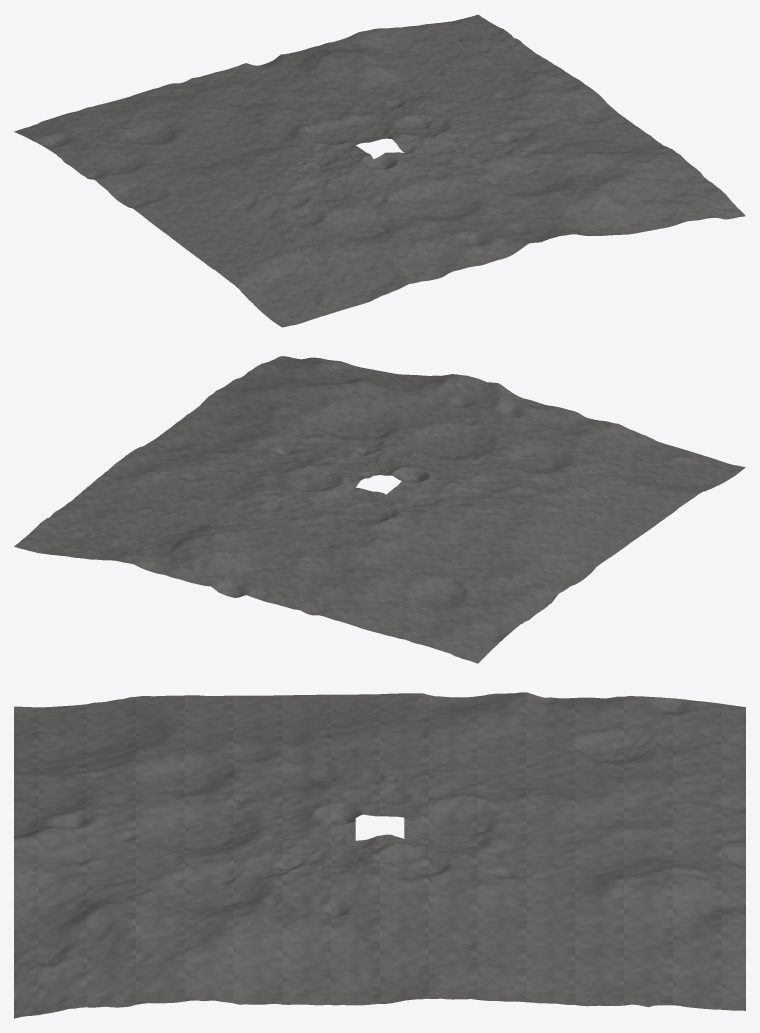
Rendered from connecting-ridge_far.glb.
3 views of the same model, one above another, from view 1: azimuth 30°, elevation 25°; view 2: azimuth 150°, elevation 25°; view 3: azimuth 270°, elevation 25° (orthographic). The views are drawn at different scales.
Parts seen in each view (by area): view 1: FarTerrain; view 2: FarTerrain; view 3: FarTerrain.
Boxes of the visible parts, <box> form: FarTerrain: <box>14,14,745,327</box>; FarTerrain: <box>14,356,745,663</box>; FarTerrain: <box>14,692,745,1018</box>.
Bounding box in the file's own units: 300 × 18.2 × 300.
Materials: 1 (1 with a texture image).
